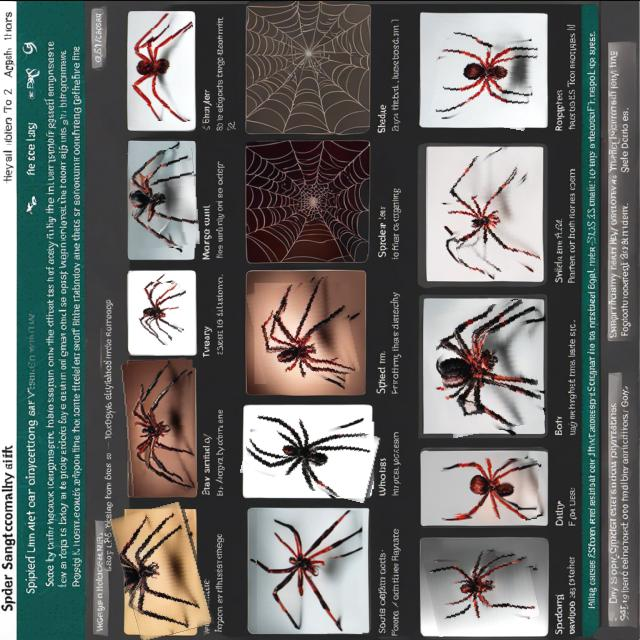spider: (436, 301, 540, 433), (258, 509, 363, 632), (116, 504, 208, 639), (250, 277, 355, 387), (443, 150, 535, 275), (243, 413, 381, 495), (434, 28, 536, 126), (122, 358, 196, 493), (426, 545, 536, 631), (129, 148, 198, 248), (132, 11, 192, 120), (441, 457, 538, 517), (132, 280, 186, 345)
